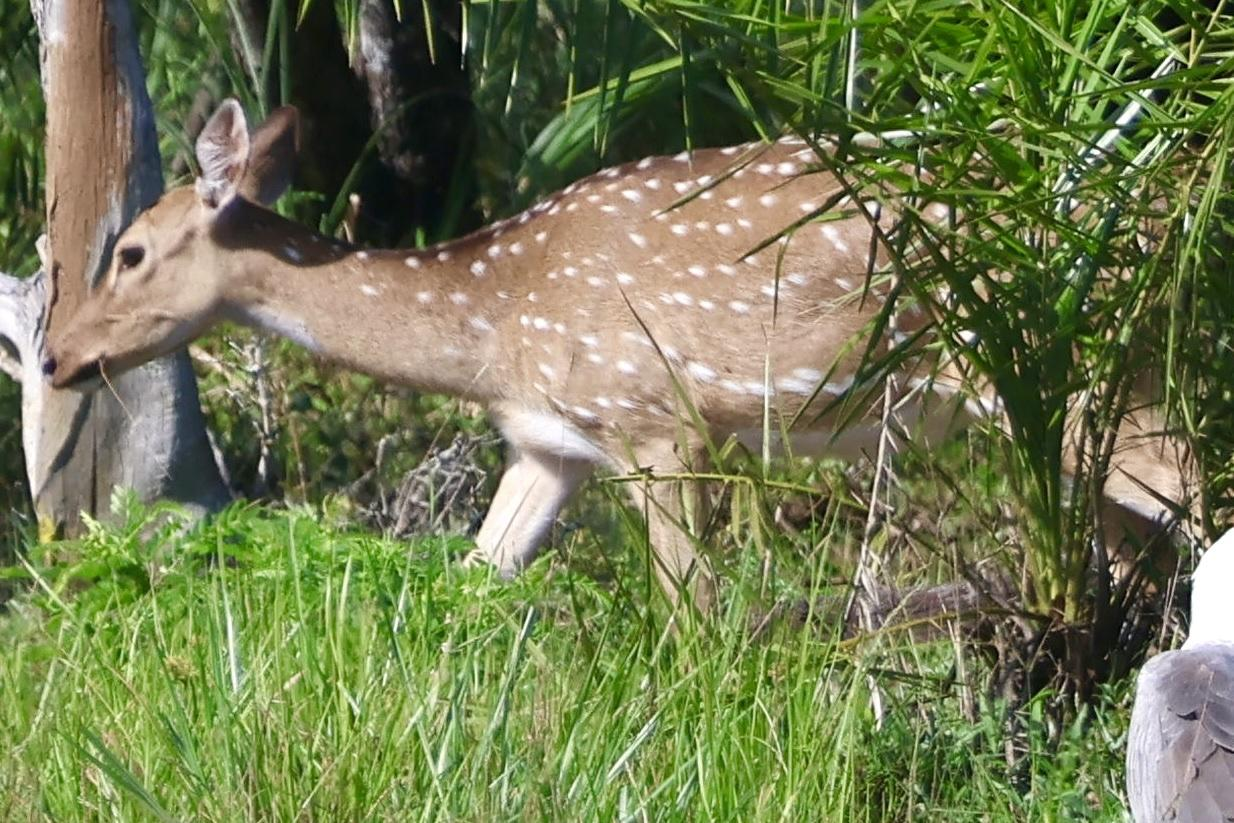Deer: (45, 99, 876, 575)
